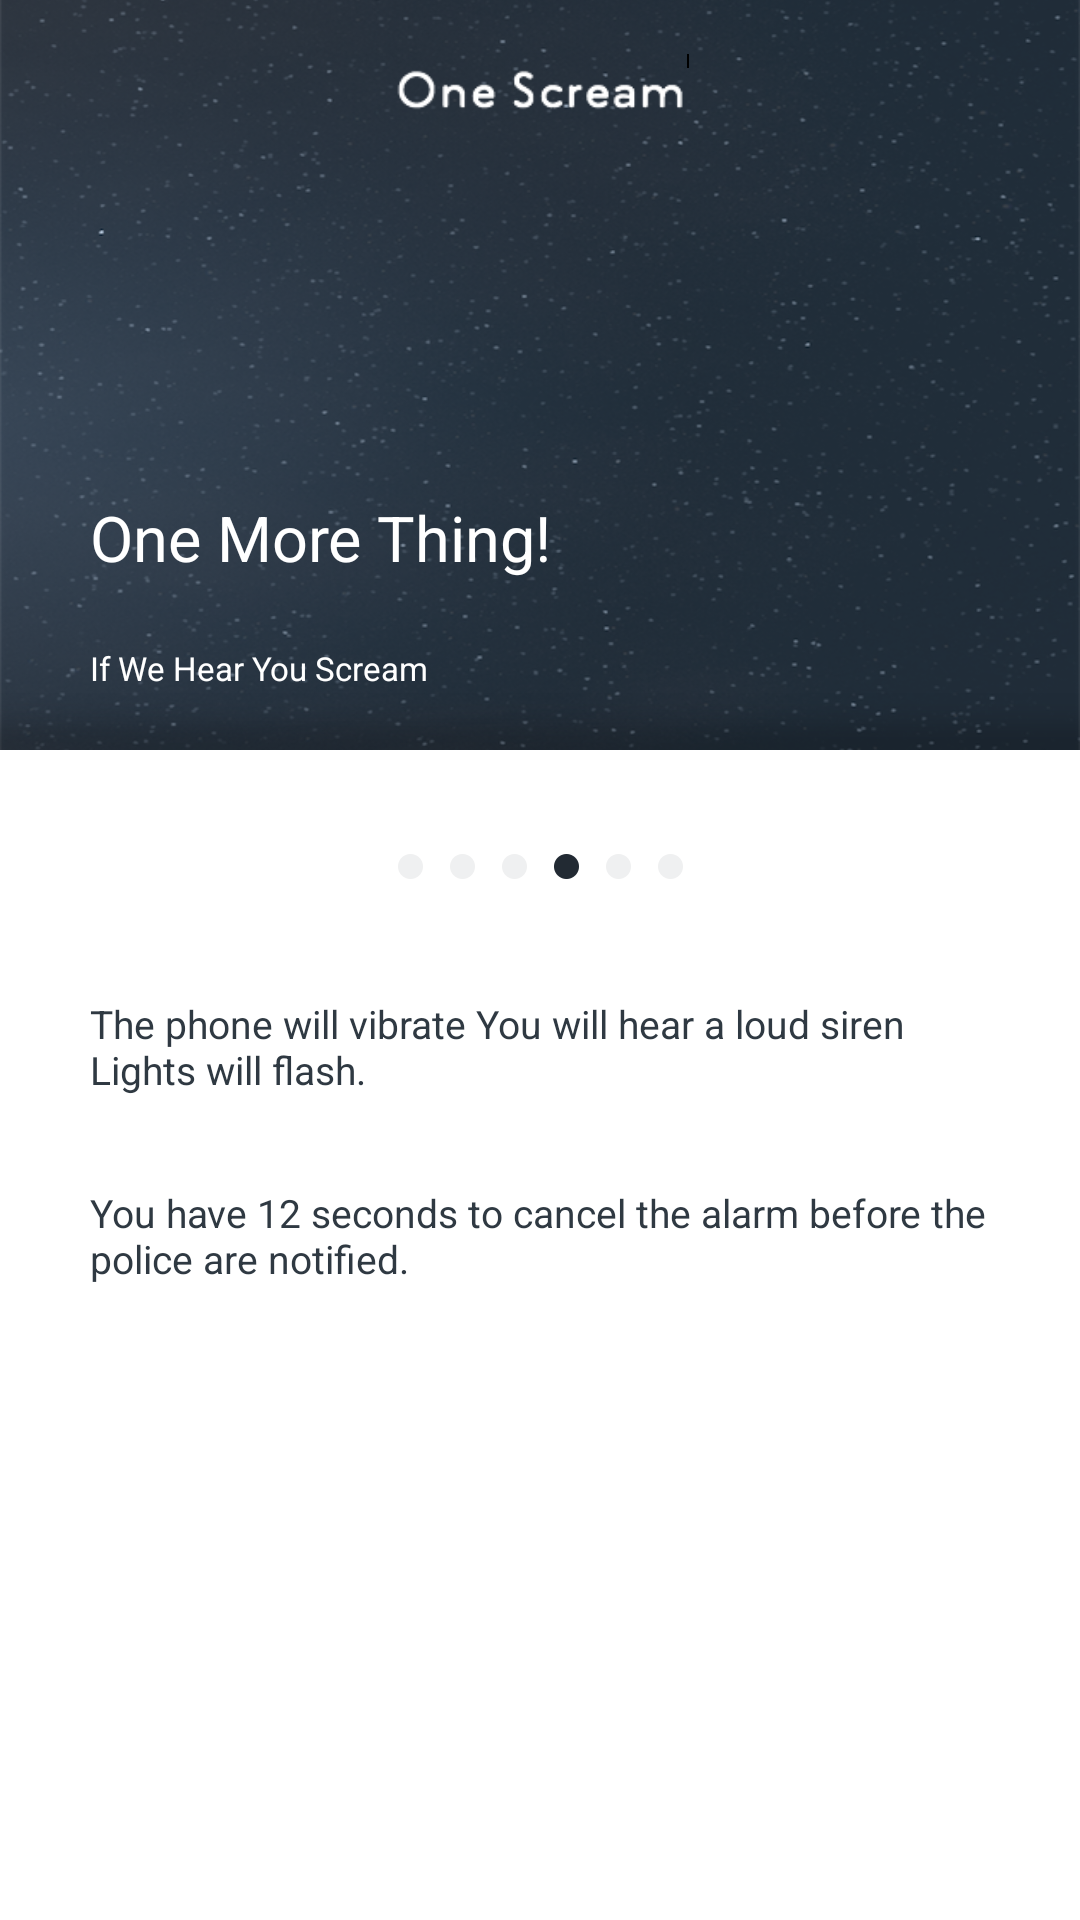

Icons on this 1080w x 1920h Android screen, each with its box as bbox(x1, y1, x2, y2):
page ind sel: bbox(554, 854, 579, 879)
